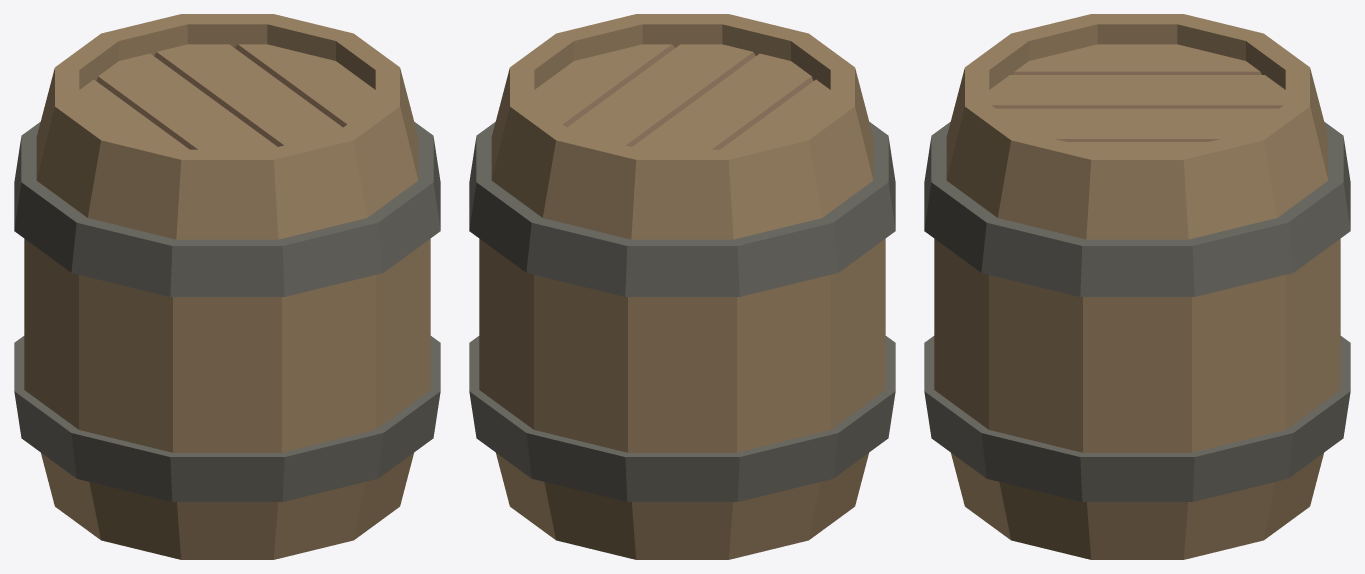
File: Prop_Barrel_1.glb
3 renders of one model, left to right at view 1: azimuth 30°, elevation 25°; view 2: azimuth 150°, elevation 25°; view 3: azimuth 270°, elevation 25°, orthographic.
Visible parts, largest first — view 1: Prop_Barrel_1; view 2: Prop_Barrel_1; view 3: Prop_Barrel_1.
Boxes of the visible parts, x1,y1,x2,y2 form: Prop_Barrel_1: [14, 14, 440, 559]; Prop_Barrel_1: [469, 14, 895, 559]; Prop_Barrel_1: [924, 14, 1350, 559].
Bounding box in the file's own units: 0.483 × 0.5 × 0.483.
